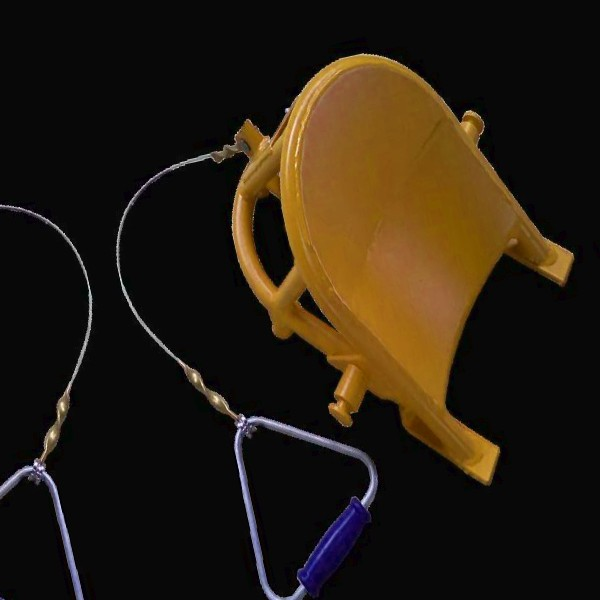chock: (196, 17, 600, 532)
